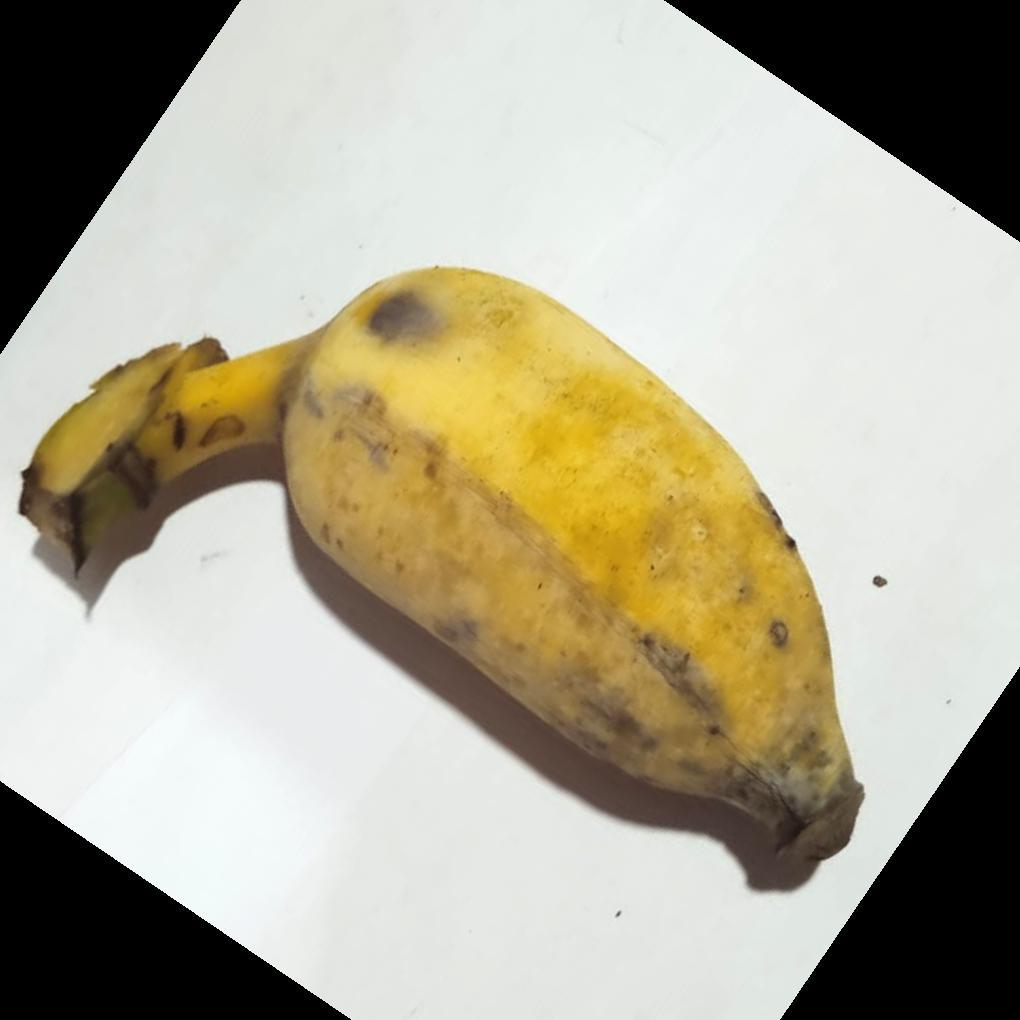Banana Ripe: (53, 234, 900, 860)
